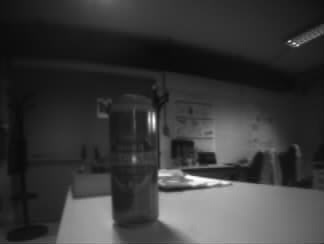Tin can: (106, 93, 163, 229)
